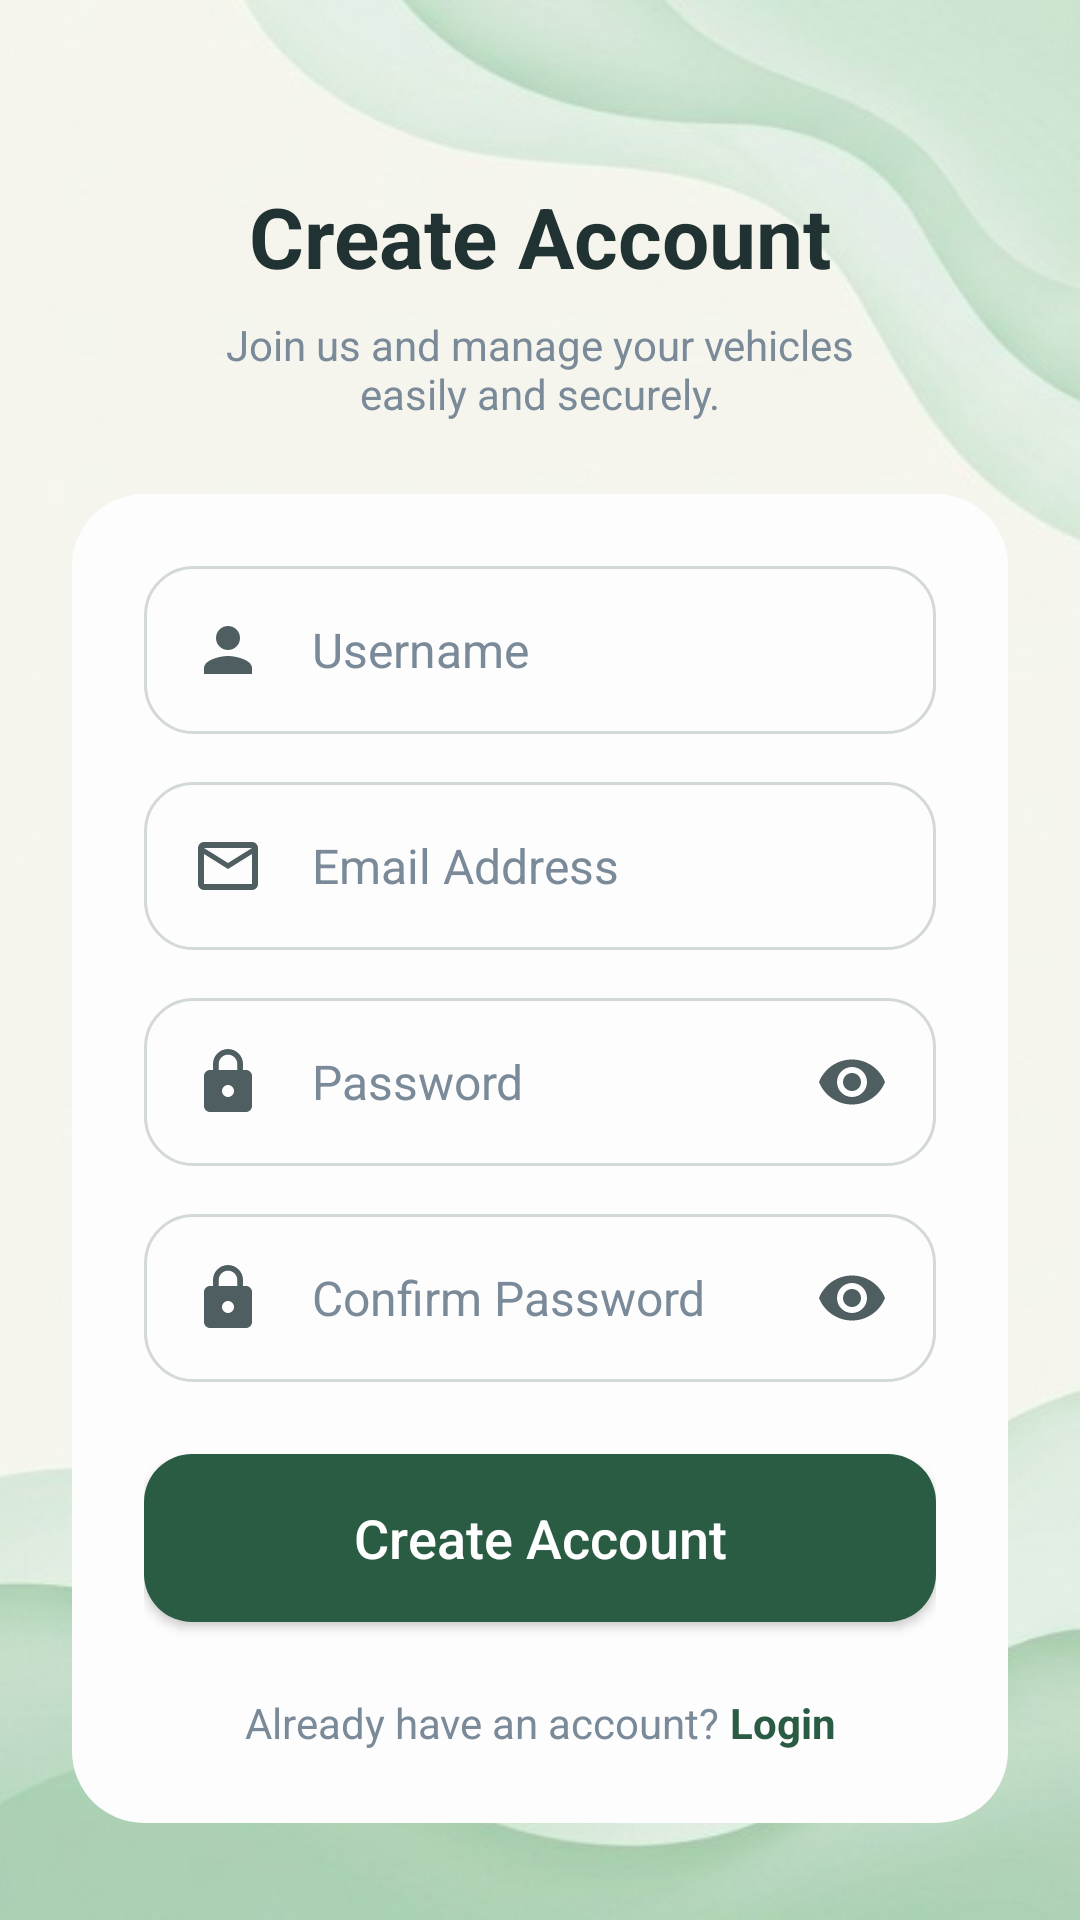

Icons on this 1080px×1920px Android screen, each with the point to tap as [x,y]:
eye: [852,1082], [852,1298]
lock: [228,1080], [228,1296]
person: [228,650]
